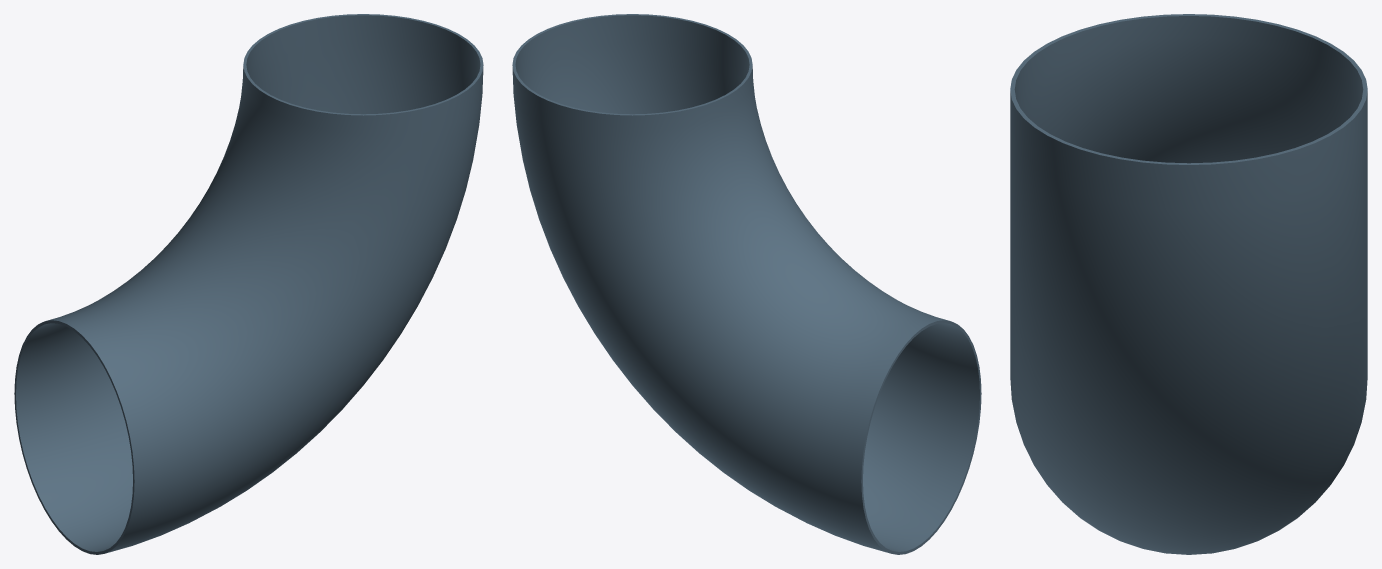
Rendered from otvod-90-720x9-R1000.glb.
3 views of the same model, side by side, from view 1: azimuth 30°, elevation 25°; view 2: azimuth 150°, elevation 25°; view 3: azimuth 270°, elevation 25° (orthographic). The views are drawn at different scales.
Visible parts, largest first — view 1: Open CASCADE STEP translator 7.9 106; view 2: Open CASCADE STEP translator 7.9 106; view 3: Open CASCADE STEP translator 7.9 106.
Part boxes in pixels (<box>): Open CASCADE STEP translator 7.9 106: <box>14,14,483,554</box>; Open CASCADE STEP translator 7.9 106: <box>512,14,981,554</box>; Open CASCADE STEP translator 7.9 106: <box>1010,14,1367,554</box>.
Size of the model in its own units: 1360 by 1360 by 720.
